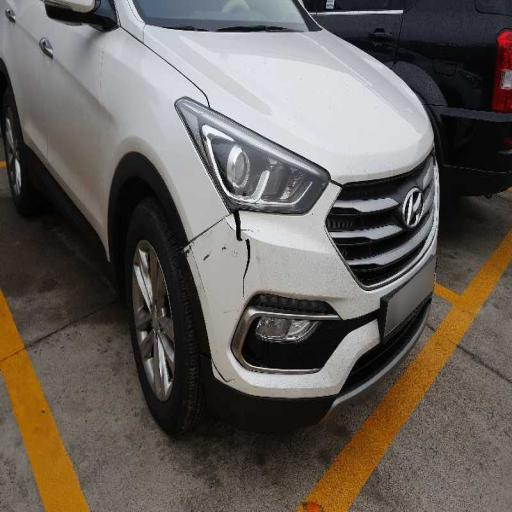broken: (136, 112, 340, 372)
